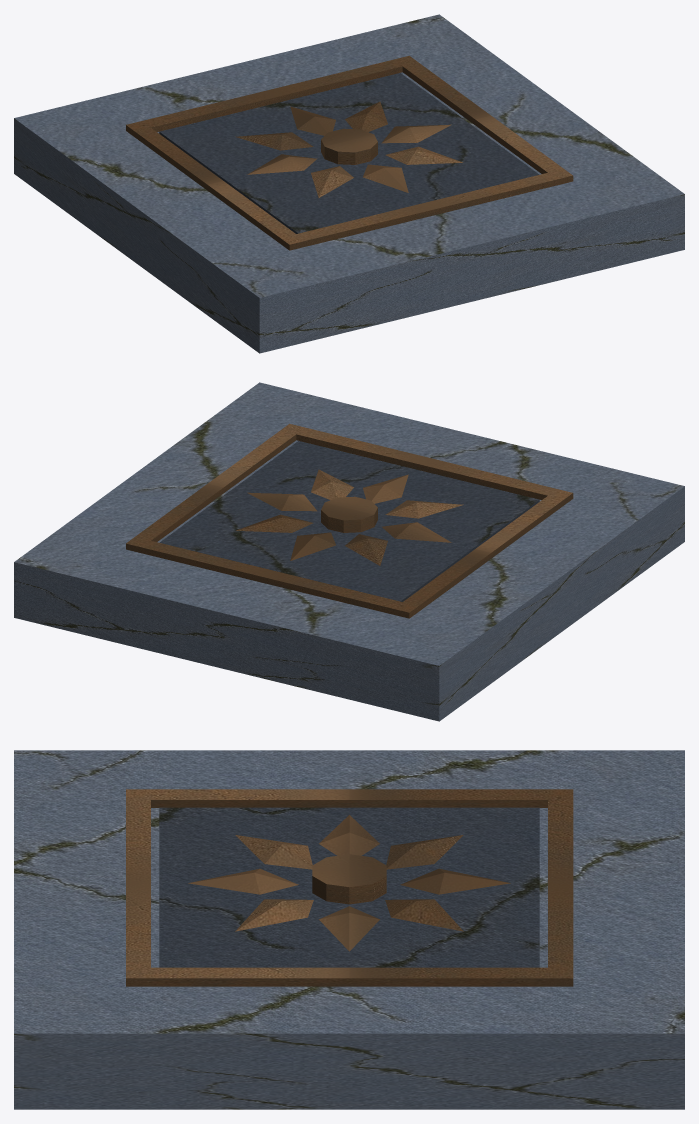
File: arena_anchor_tile.glb
3 views of the same model, one above another, from view 1: azimuth 30°, elevation 25°; view 2: azimuth 150°, elevation 25°; view 3: azimuth 270°, elevation 25° (orthographic). The views are drawn at different scales.
Parts seen in each view (by area): view 1: arena_anchor_tile; view 2: arena_anchor_tile; view 3: arena_anchor_tile.
Boxes of the visible parts, box(x1,y1,x2,y2) form: arena_anchor_tile: box(14, 14, 684, 353); arena_anchor_tile: box(14, 382, 684, 721); arena_anchor_tile: box(14, 750, 684, 1109).
Bounding box in the file's own units: 1.2 × 0.192 × 1.2.
3 materials, 3 textured.
